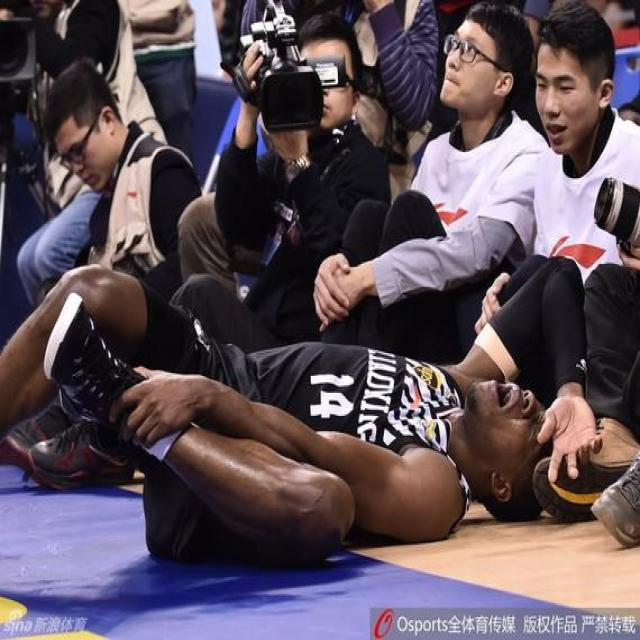10-: (0, 1, 634, 566)
down: (0, 241, 619, 563)
